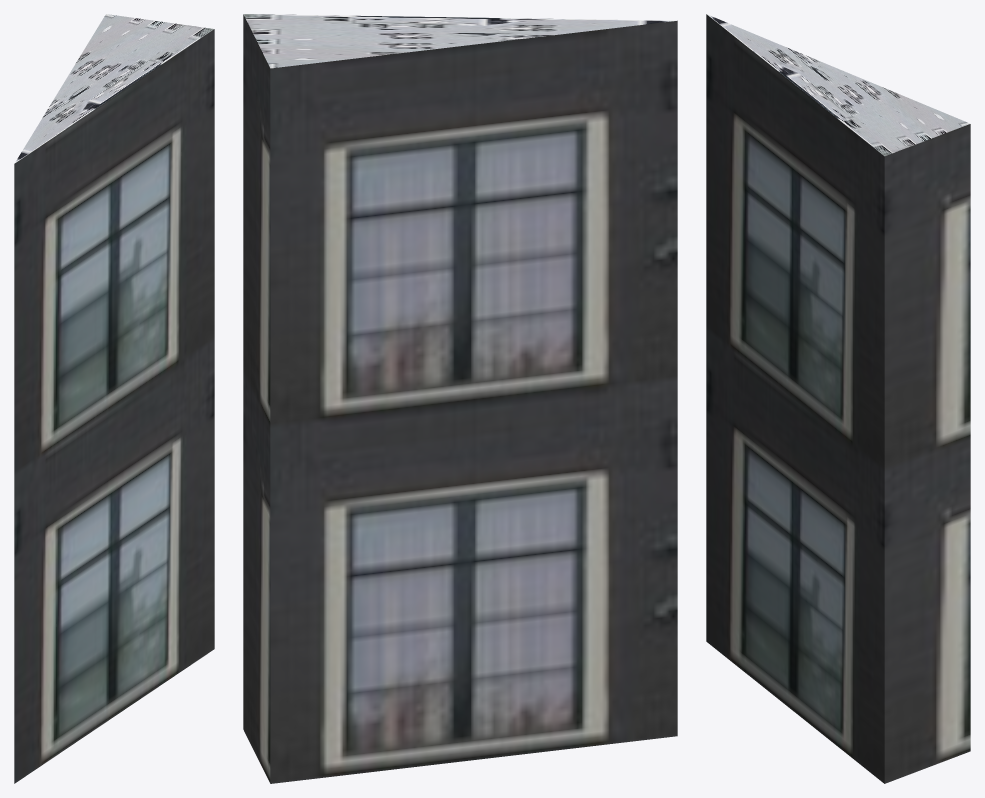
Rendered from ResTex__5065.fbx.
The picture shows the model from 3 angles, left to right: view 1: azimuth 30°, elevation 25°; view 2: azimuth 150°, elevation 25°; view 3: azimuth 270°, elevation 25°; orthographic projection. The views are drawn at different scales.
Visible parts, largest first — view 1: CityEngineMaterial_22_m, CityEngineMaterial_4_m; view 2: CityEngineMaterial_22_m, CityEngineMaterial_4_m; view 3: CityEngineMaterial_22_m, CityEngineMaterial_4_m.
Boxes of the visible parts, x1,y1,x2,y2 form: CityEngineMaterial_22_m: [14, 29, 214, 783]; CityEngineMaterial_4_m: [14, 14, 213, 163]; CityEngineMaterial_22_m: [243, 14, 677, 783]; CityEngineMaterial_4_m: [243, 14, 676, 68]; CityEngineMaterial_22_m: [706, 14, 970, 783]; CityEngineMaterial_4_m: [707, 14, 970, 156].
Bounding box in the file's own units: 2.92 × 6 × 2.29.
2 materials, 2 textured.
